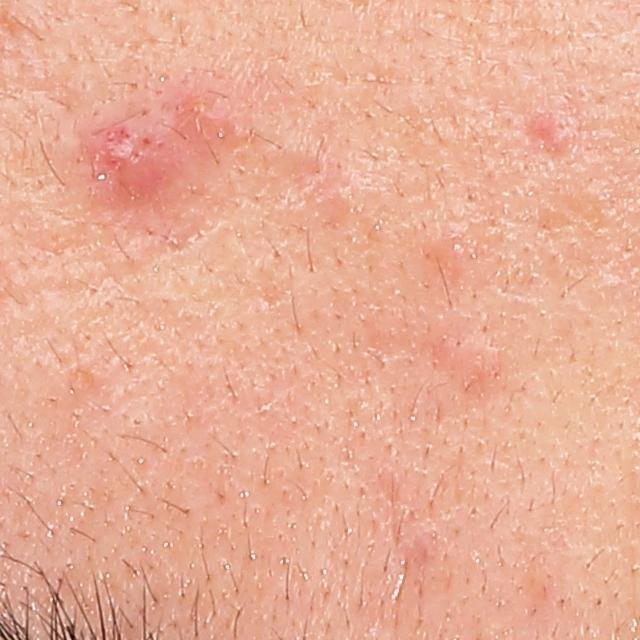papule: (92, 113, 192, 194), (433, 329, 508, 390), (171, 89, 231, 144)
